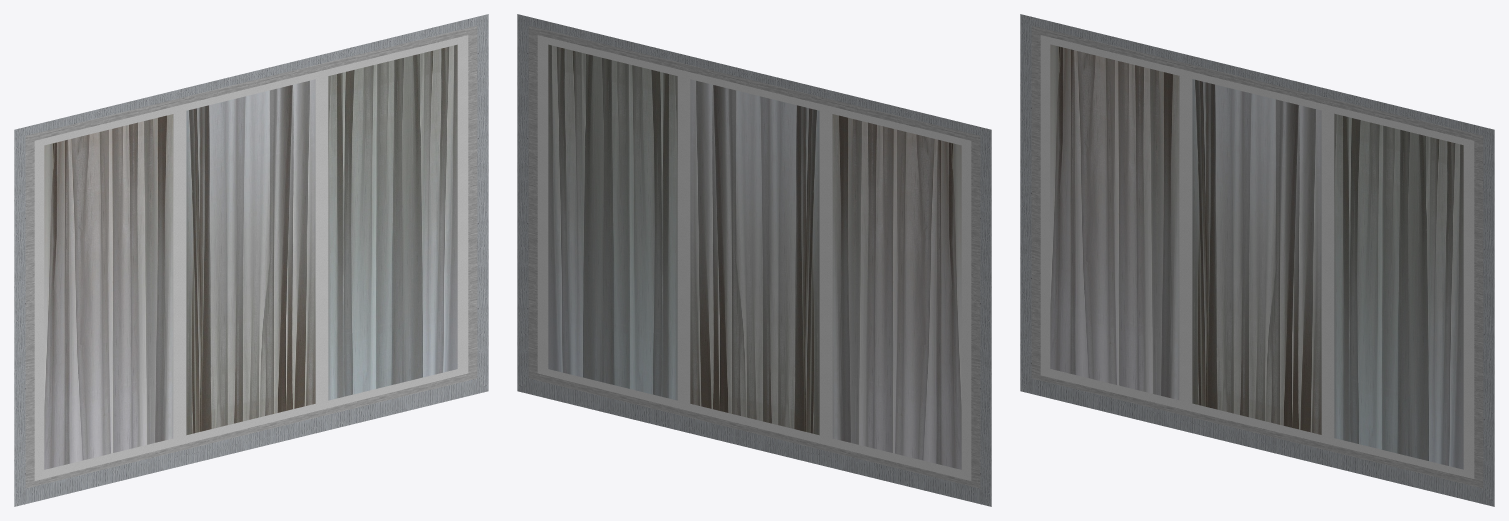
The model's file is Window3.LOD.glb.
3 views of the same model, side by side, from view 1: azimuth 30°, elevation 25°; view 2: azimuth 150°, elevation 25°; view 3: azimuth 330°, elevation 25° (orthographic).
Visible parts, largest first — view 1: Window; view 2: Window; view 3: Window.
Part boxes in pixels (x1,y1,x2,y2): Window: [14, 14, 488, 506]; Window: [517, 14, 991, 506]; Window: [1020, 14, 1494, 506].
Bounding box in the file's own units: 5.36 × 4.07 × 0.
Materials: 4 (4 with a texture image).
